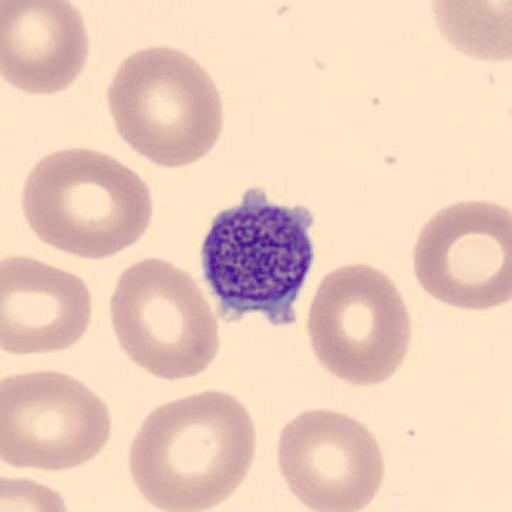Platelet: (198, 195, 318, 327)
RBC: (126, 388, 258, 512), (19, 144, 156, 261), (105, 43, 225, 171), (108, 254, 222, 384), (305, 260, 413, 389), (275, 406, 388, 512), (1, 368, 114, 474), (411, 197, 512, 312), (2, 253, 93, 358), (1, 0, 90, 97), (428, 0, 512, 65), (2, 475, 71, 512)
